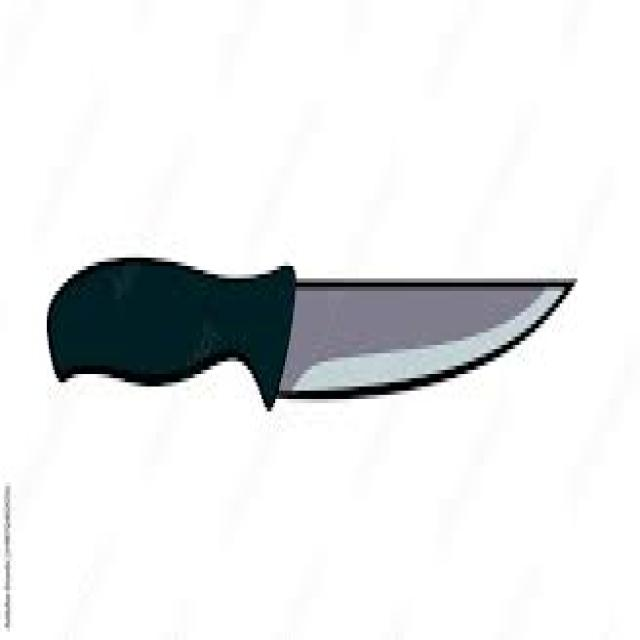Knife: (45, 253, 577, 408)
